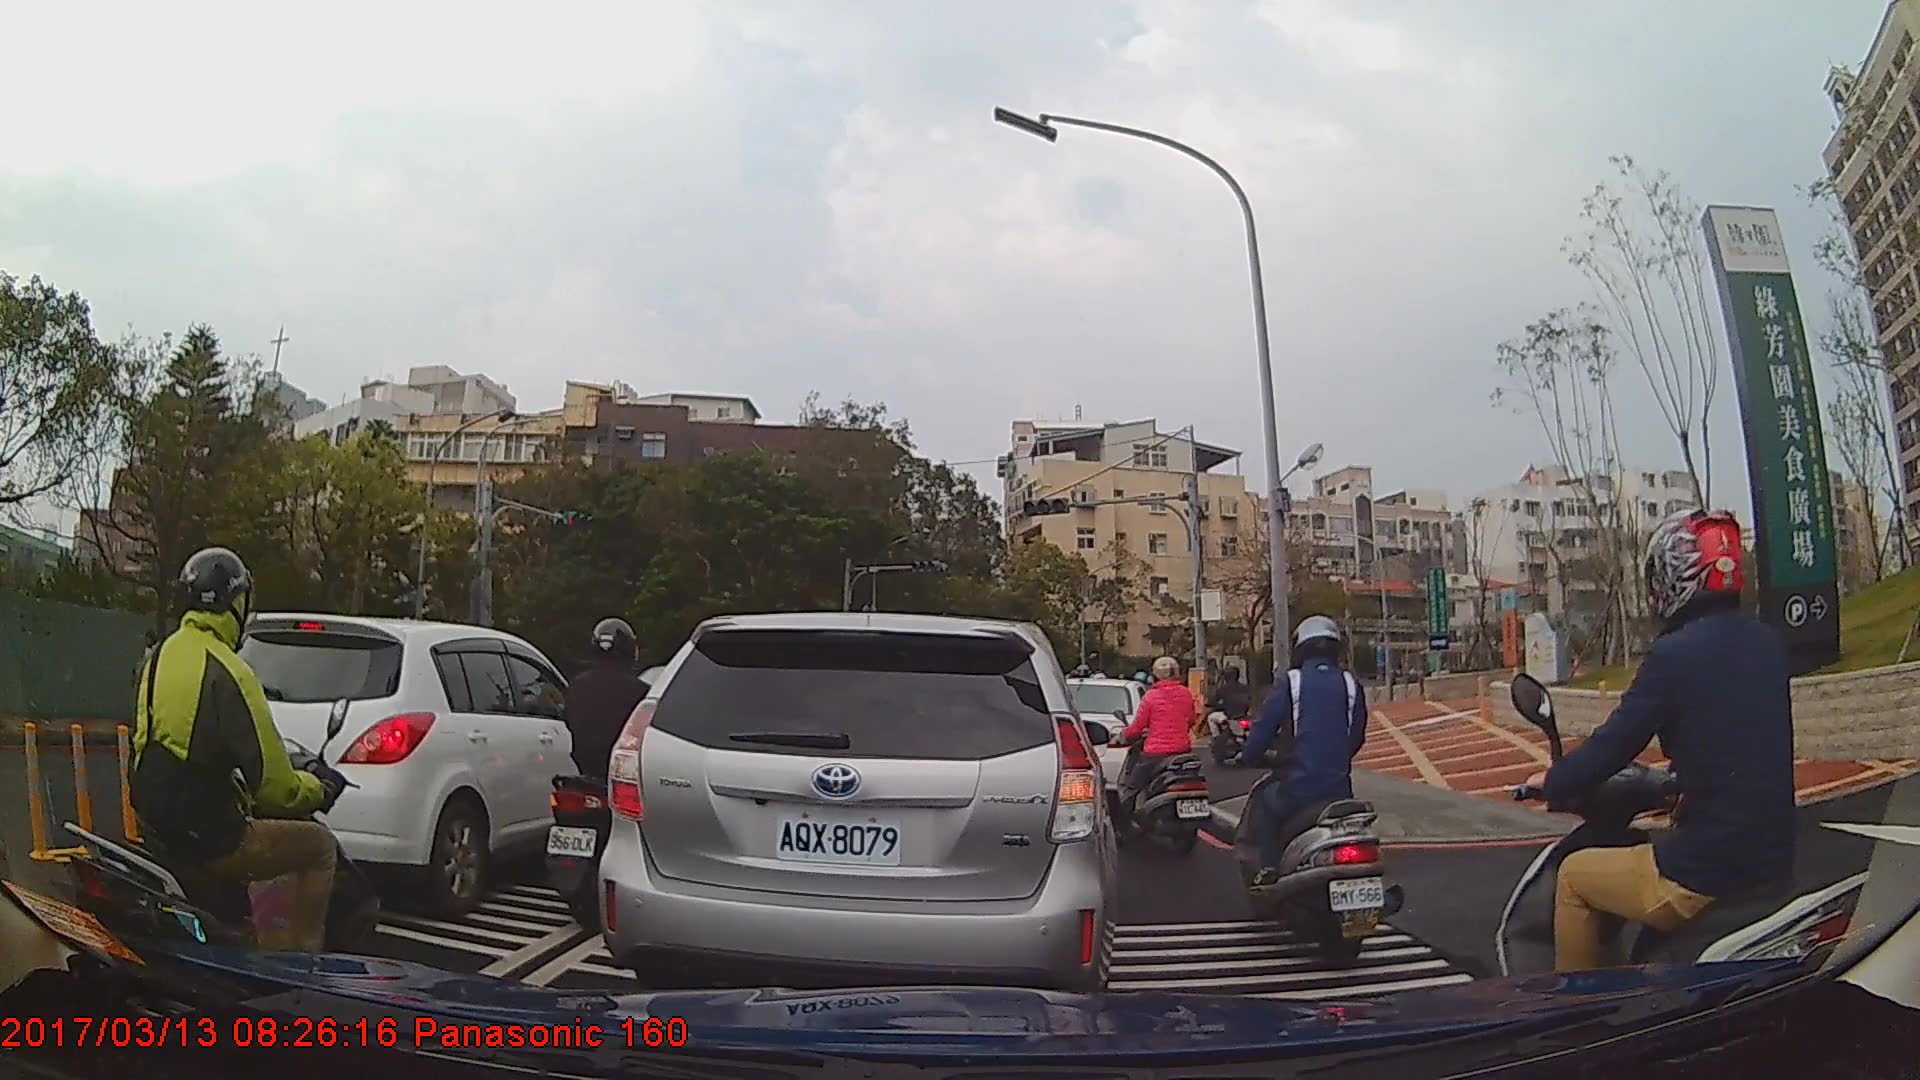rider: (1497, 501, 1876, 1059), (66, 547, 386, 1039), (1225, 615, 1391, 961), (546, 618, 694, 934), (1107, 653, 1215, 863), (1209, 663, 1256, 764)
vehicle: (596, 611, 1118, 996), (178, 612, 627, 919)
